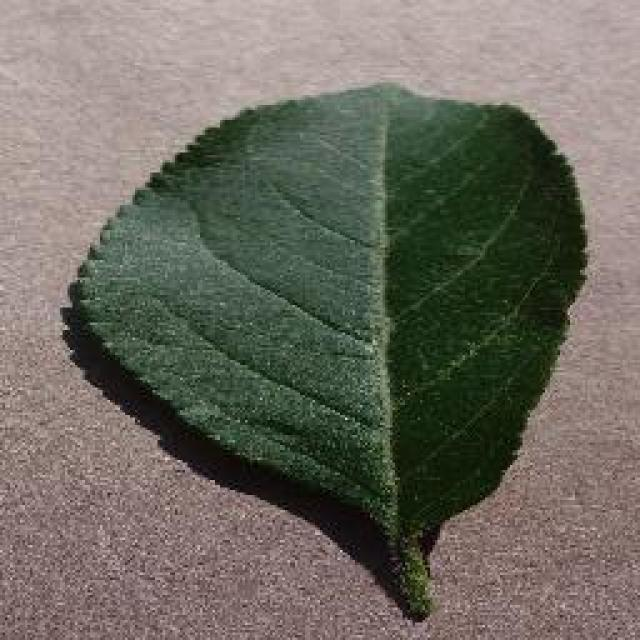apple healthy: (62, 78, 590, 618)
